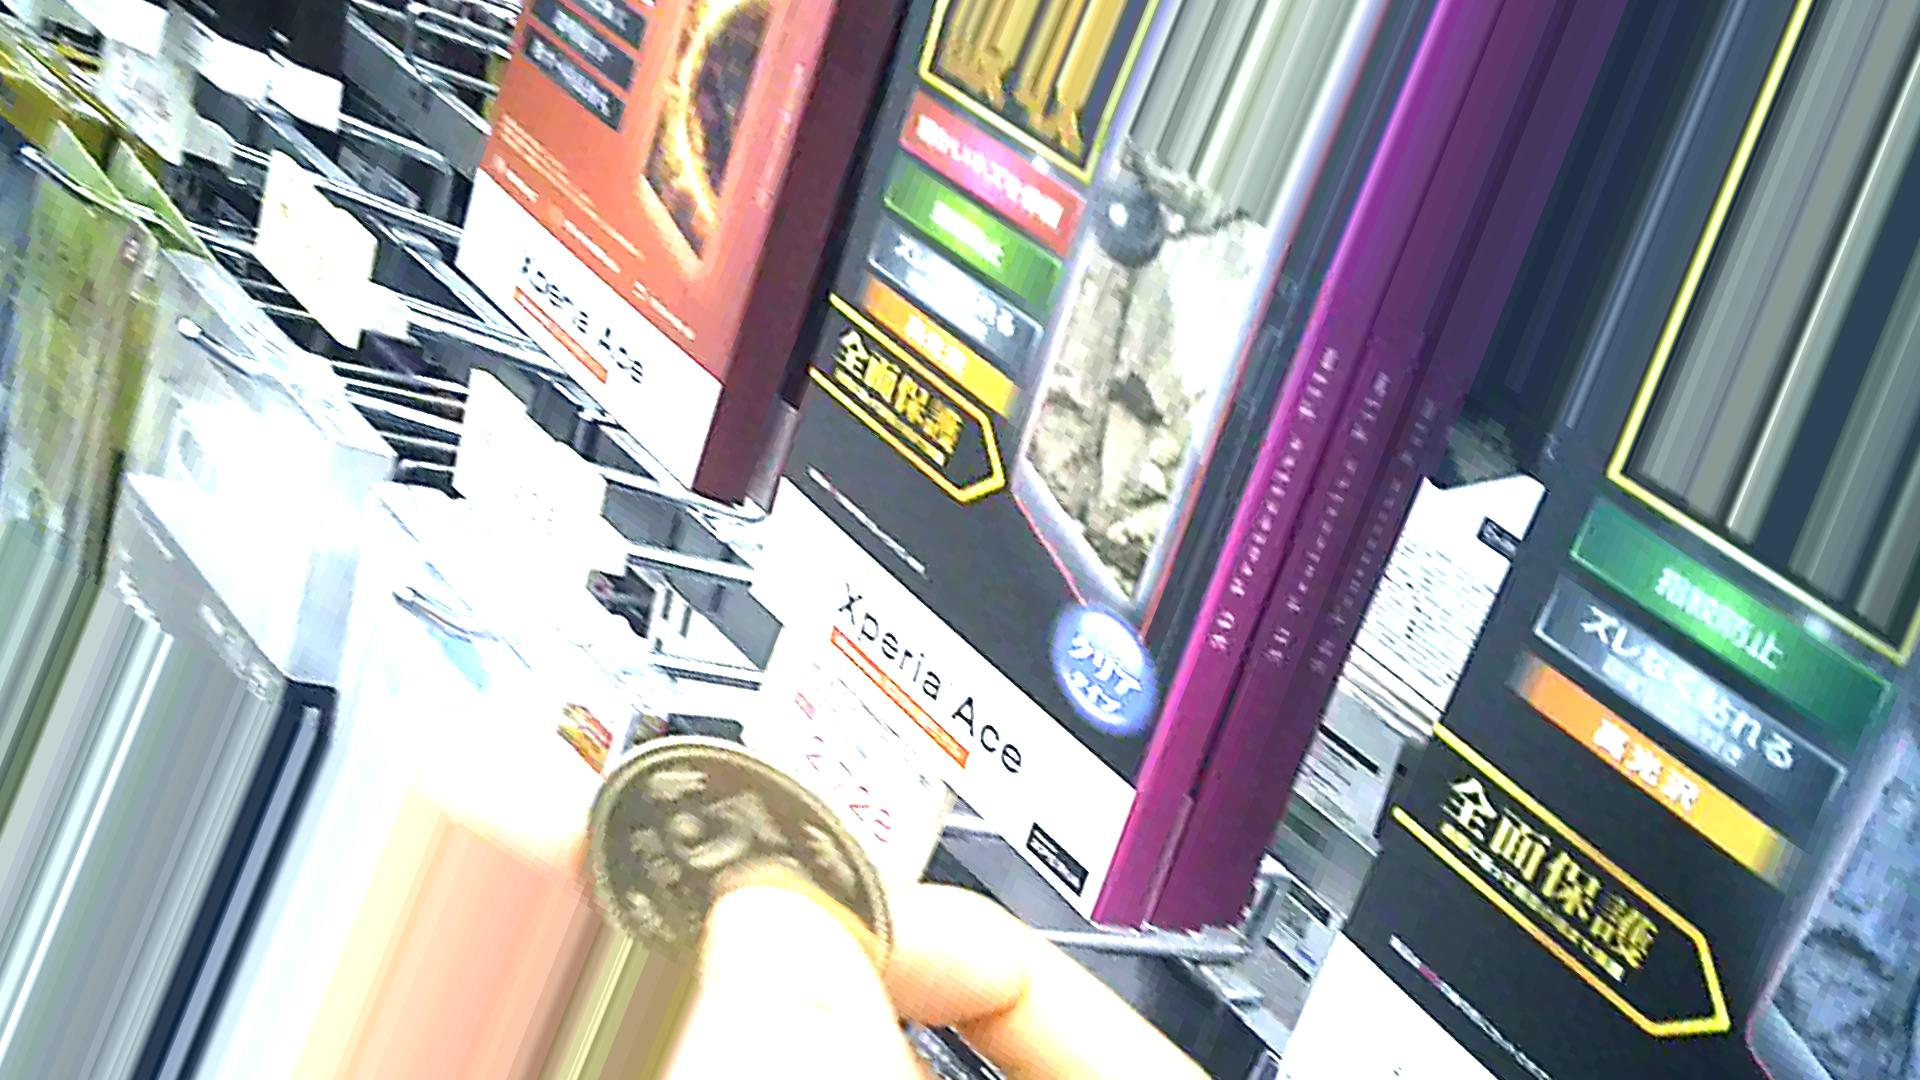500 Yen: (553, 717, 882, 1015)
